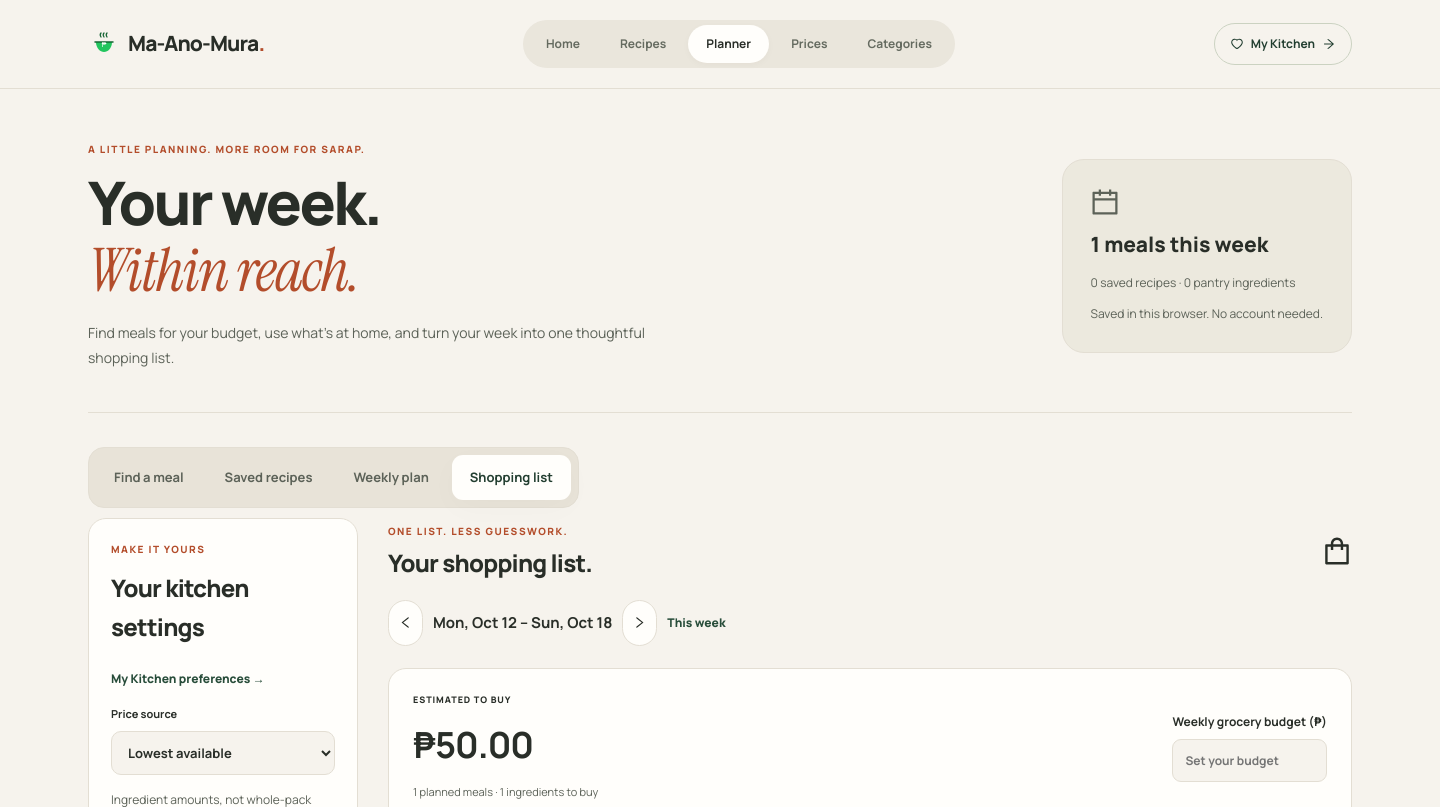
Test: shopping check-offs are separate for different weeks with identical ingredients
Click the button named "Next week". click: {"x": 640, "y": 623}
box: x1=622 y1=600 x2=657 y2=646
(page scrolled)
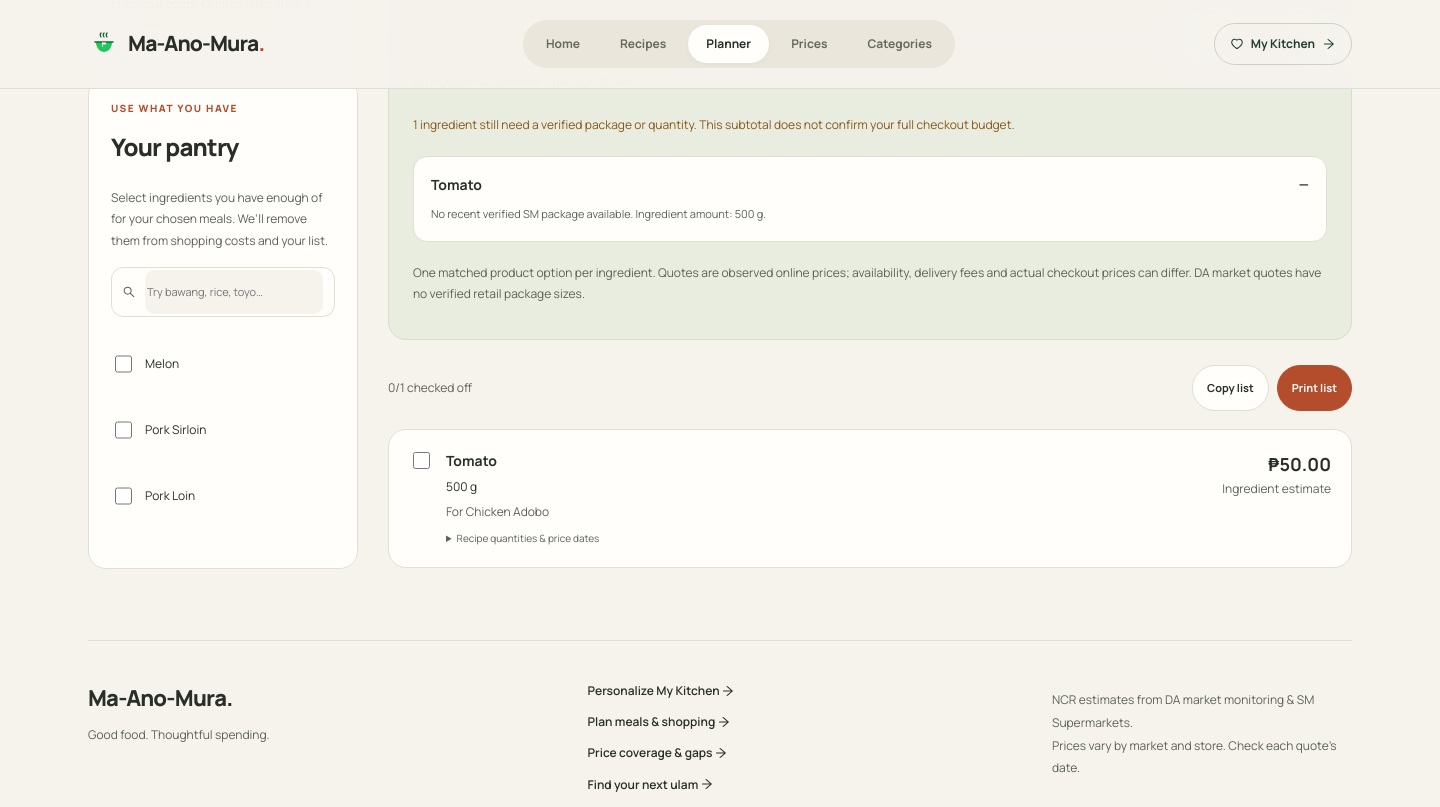
Check: the checkbox labelled "Tomato 500 g" is not checked, box x1=413 y1=452 x2=430 y2=469
